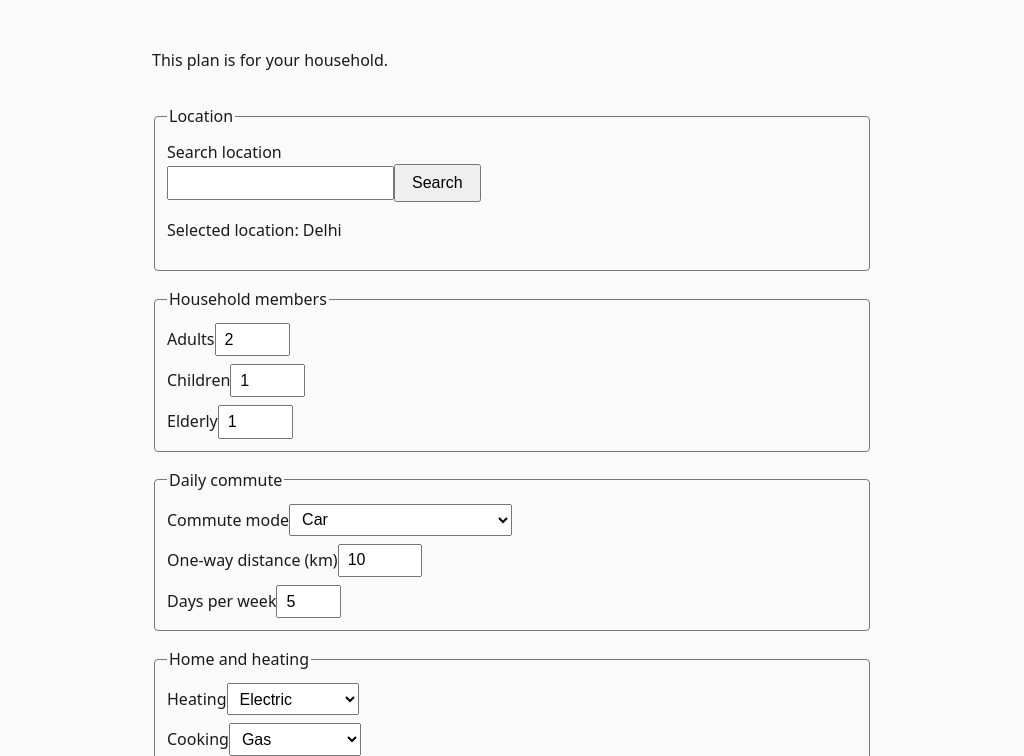
Test: ProfileForm › initial with adults 0 shows validation alert and does not submit
Replace the text in the number field labelled "Adults" with "0" at [252, 340], box [214, 323, 290, 356]
(page scrolled)
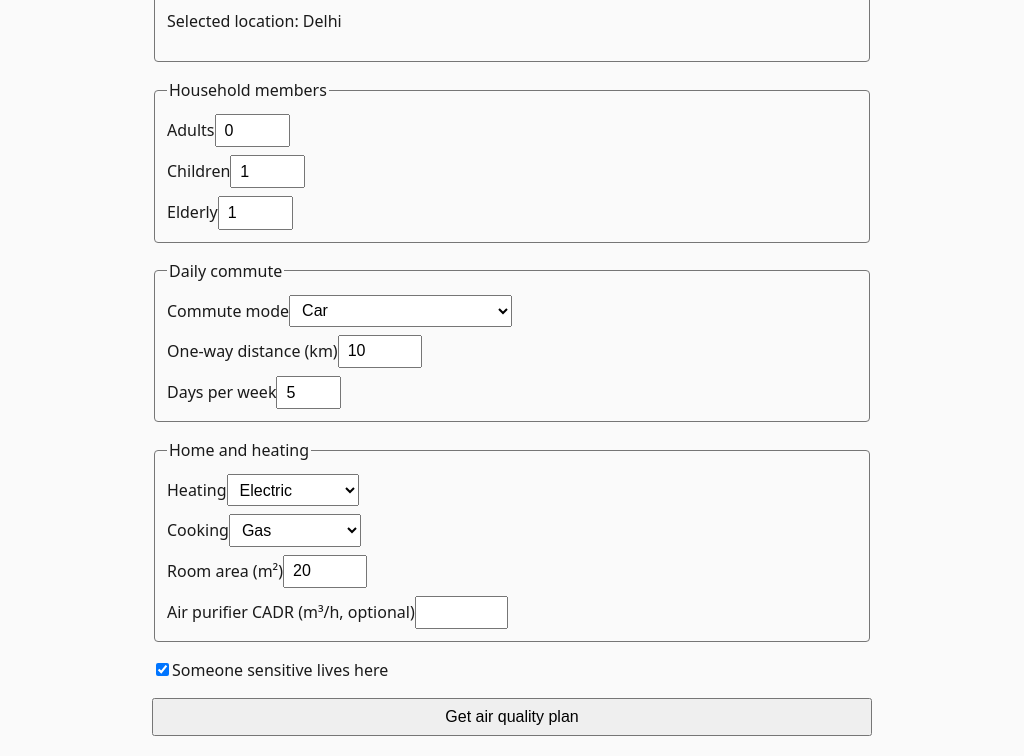
Click the button "Get air quality plan".
click(512, 717)  # box [152, 698, 872, 736]
(page scrolled)
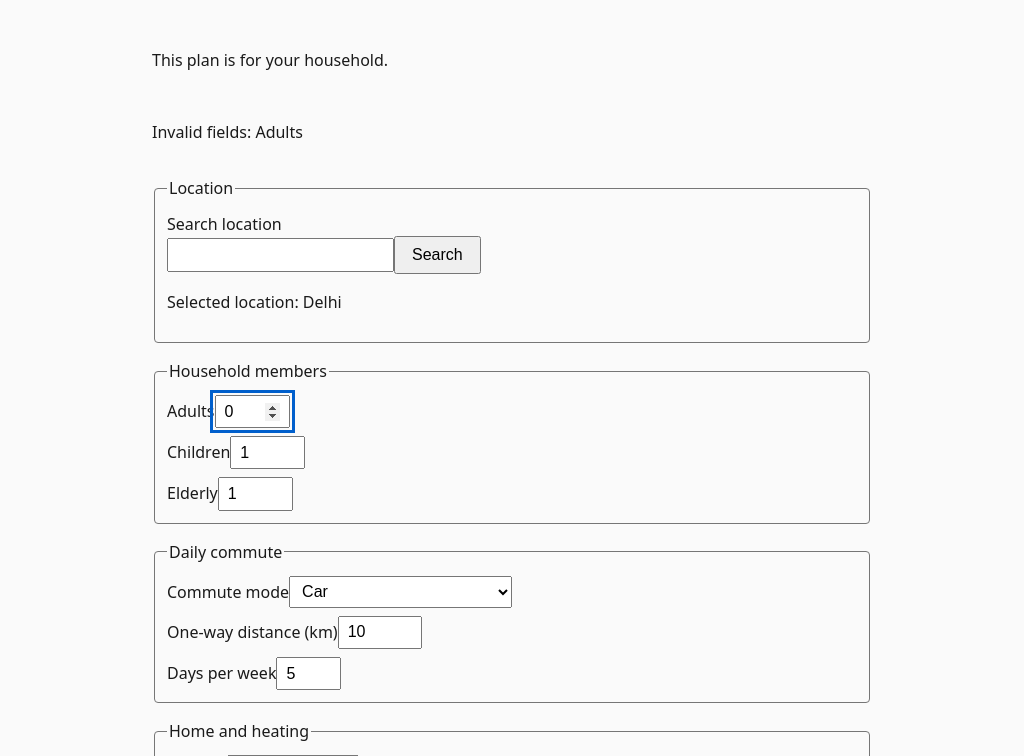
Expected: the message reads "Invalid fields: Adults", [152, 121, 303, 143]
